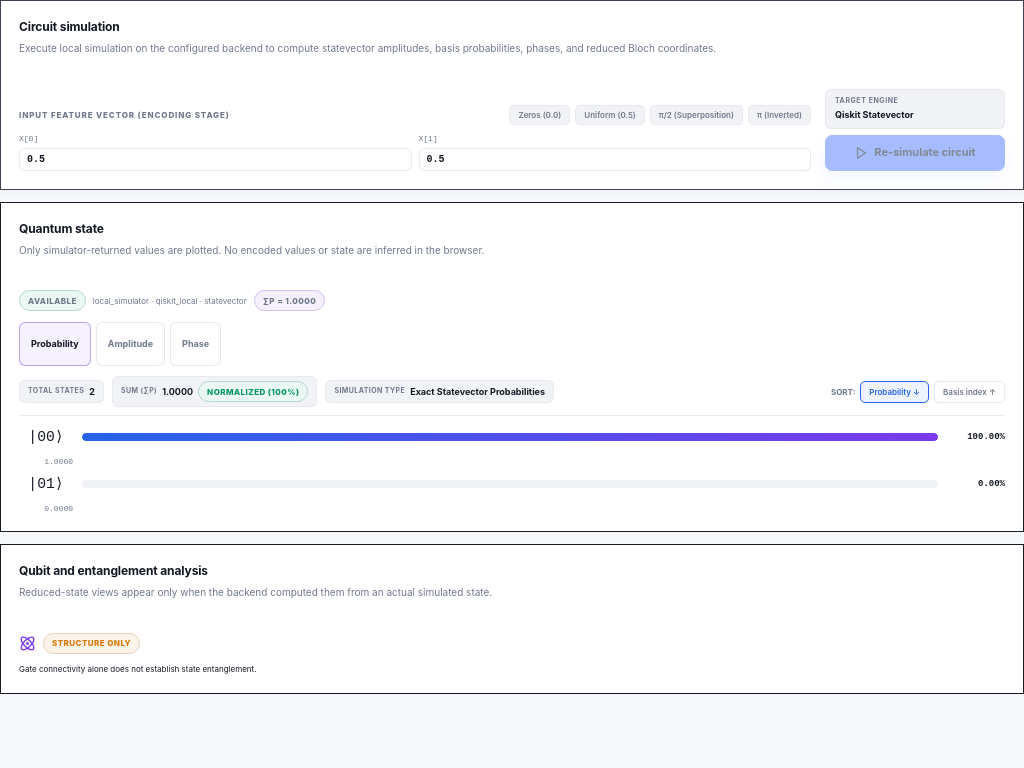
Test: QuantumStatePanel Component › renders phase in radians and degrees, and displays Undefined for zero amplitude states
The image size is (1024, 768).
Step 1. Click the tab "Phase" → (196, 344), box [170,322,221,366]
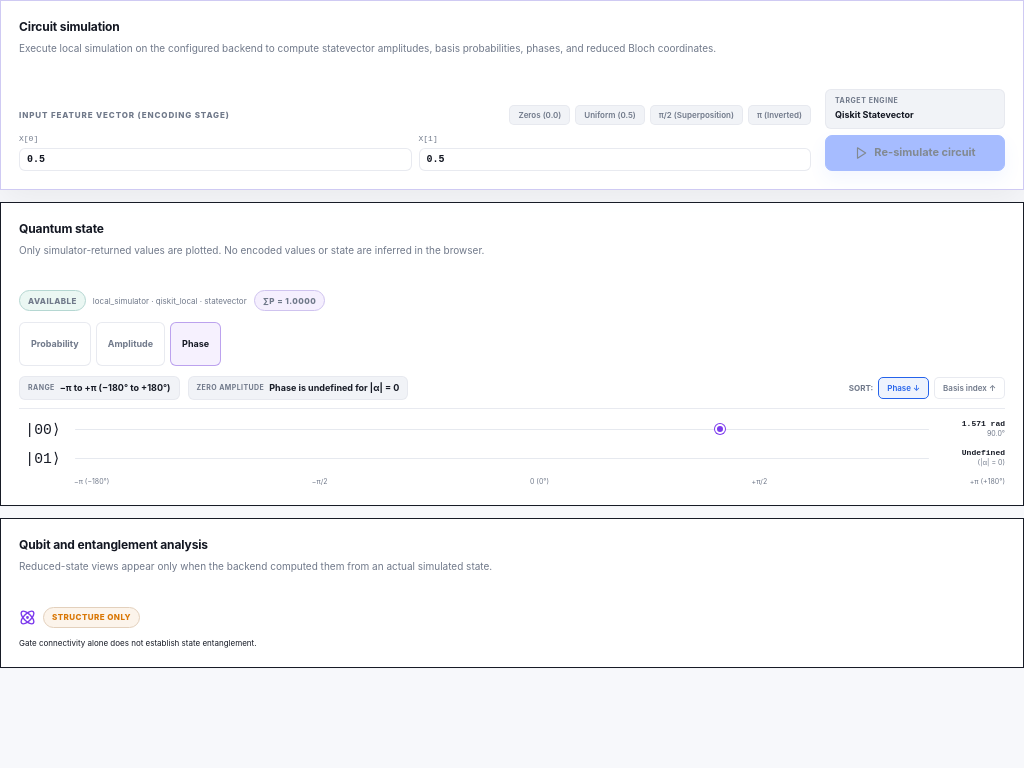
expect the text "1.571 rad" is shown: met, box [962,419,1005,428]
expect the text "90.0°" is shown: met, box [987,429,1005,440]
expect the text "Undefined" is shown: met, box [962,448,1005,457]
